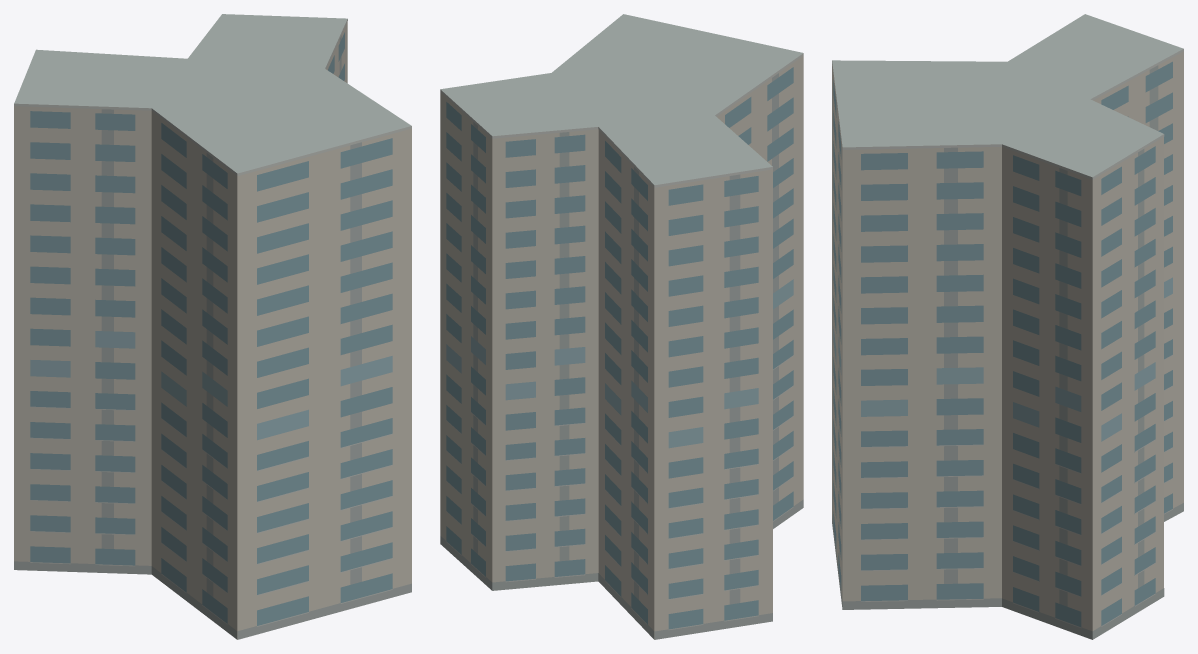
The model's file is residential-fc1d1fd3-d89a-4159-8c4f-9e8d28414c34.glb.
3 renders of one model, left to right at view 1: azimuth 30°, elevation 25°; view 2: azimuth 150°, elevation 25°; view 3: azimuth 270°, elevation 25°, orthographic. The views are drawn at different scales.
Parts seen in each view (by area): view 1: residential-fc1d1fd3-d89a-4159-8c4f-9e8d28414c34.tmp; view 2: residential-fc1d1fd3-d89a-4159-8c4f-9e8d28414c34.tmp; view 3: residential-fc1d1fd3-d89a-4159-8c4f-9e8d28414c34.tmp.
Part boxes in pixels (x1,y1,x2,y2): residential-fc1d1fd3-d89a-4159-8c4f-9e8d28414c34.tmp: [14, 14, 411, 639]; residential-fc1d1fd3-d89a-4159-8c4f-9e8d28414c34.tmp: [440, 14, 803, 639]; residential-fc1d1fd3-d89a-4159-8c4f-9e8d28414c34.tmp: [832, 14, 1183, 639].
Bounding box in the file's own units: 33.33 × 44 × 30.33.
